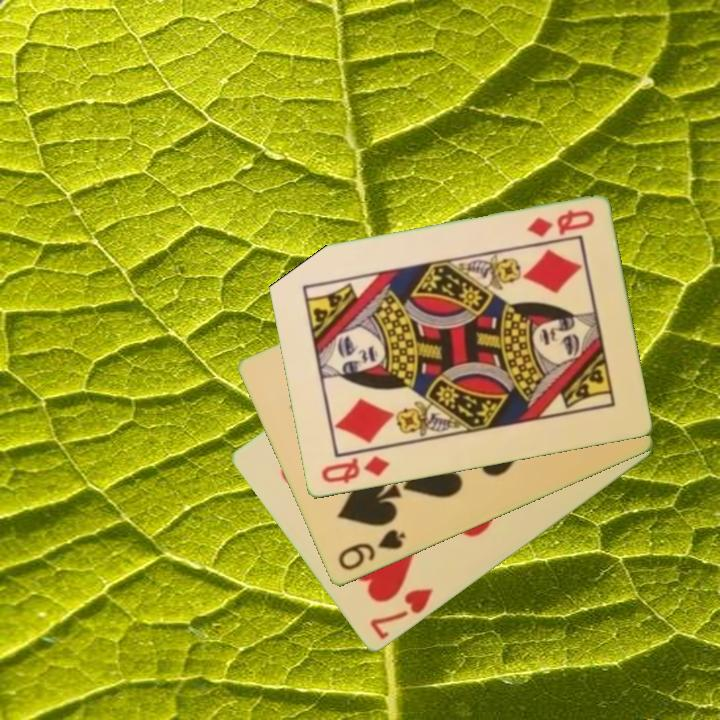7h: (366, 585, 436, 643)
9s: (334, 526, 409, 575)
Qd: (317, 452, 392, 487), (523, 207, 597, 241)
